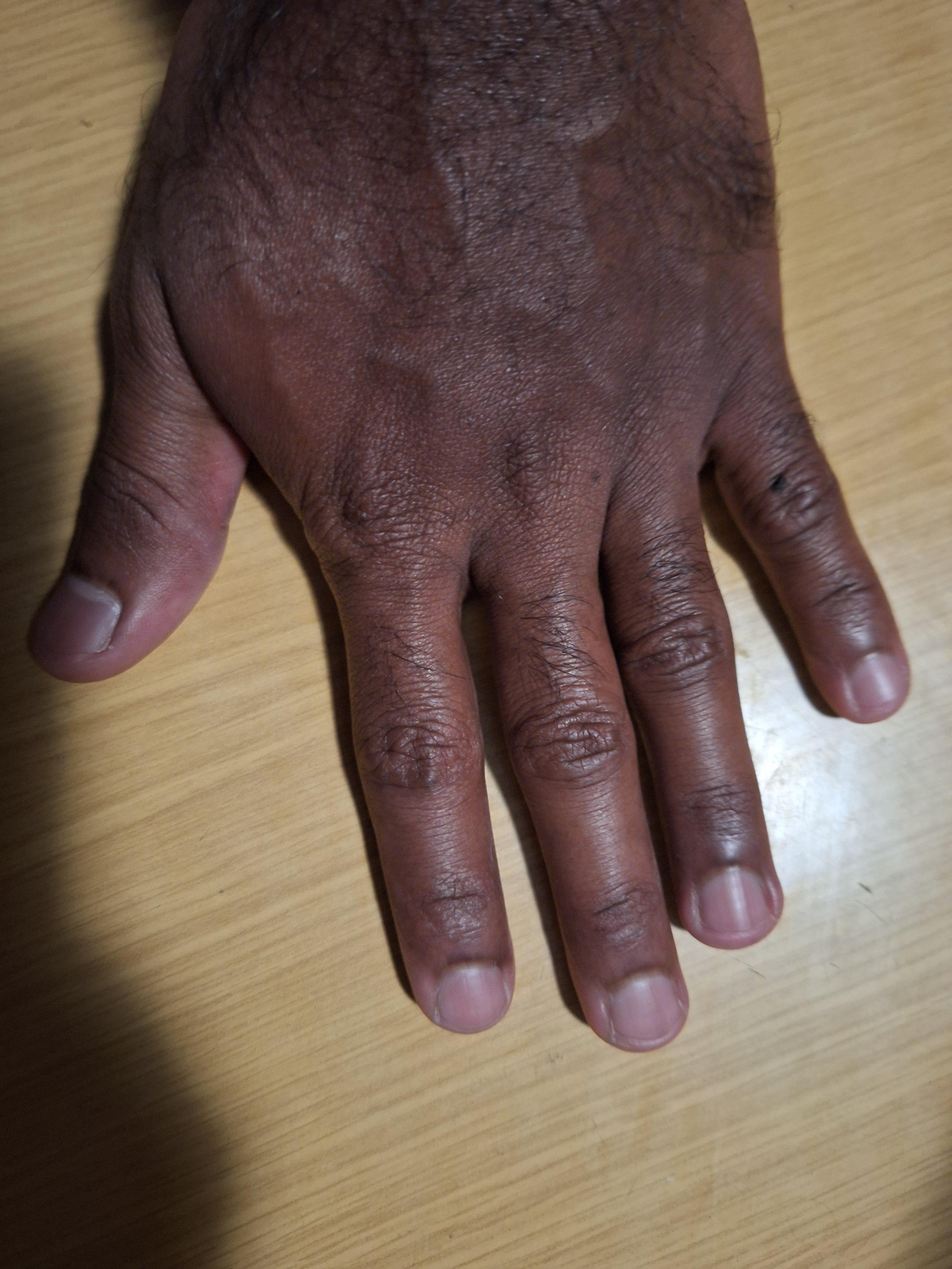Fingernail: (35, 576, 119, 655), (436, 965, 507, 1032), (610, 975, 681, 1040), (699, 872, 769, 931), (851, 657, 904, 707)
